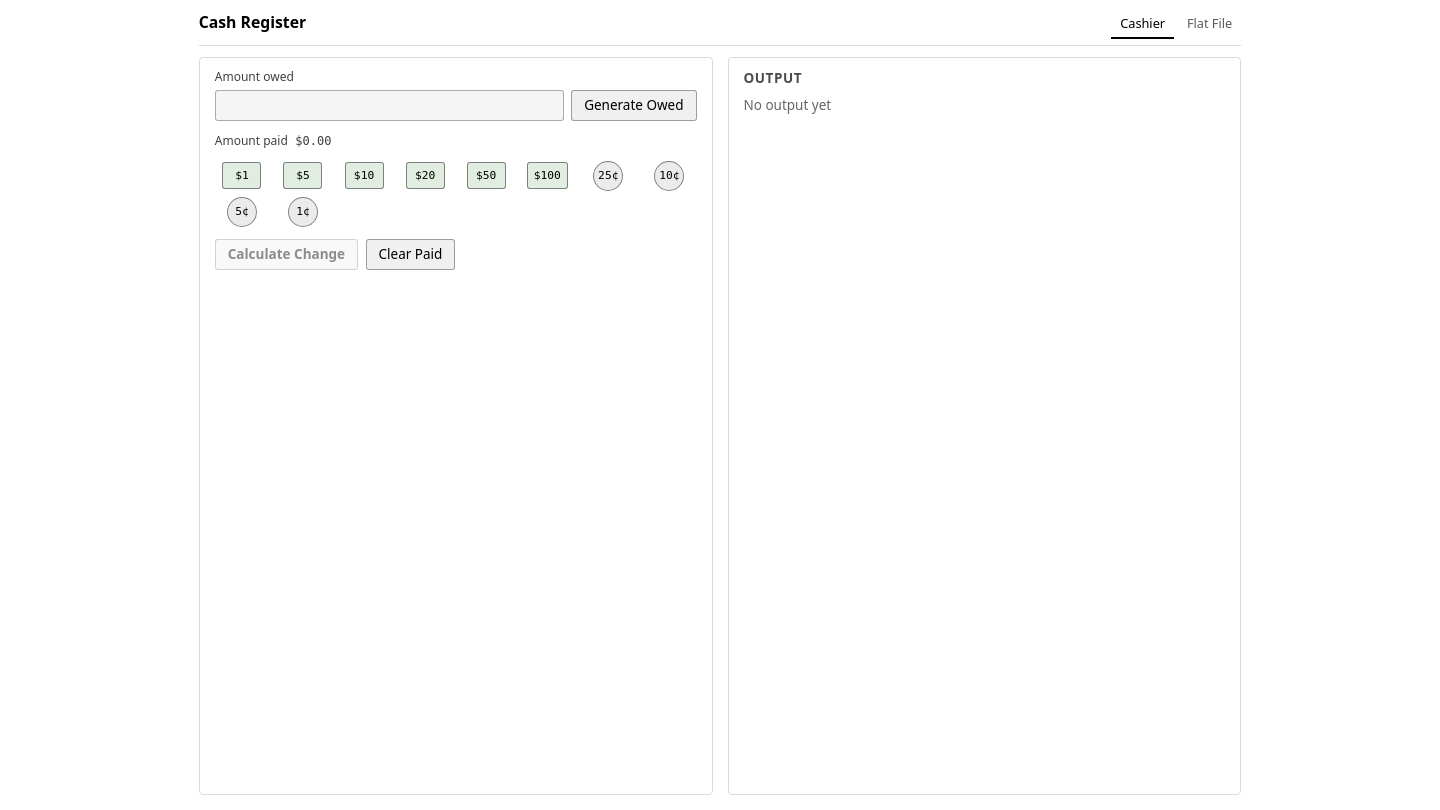
Test: exact coverage notices plainly and locks the grid
Type "5.00" into the field labelled "Amount owed". click: (389, 106)
box: [215, 90, 564, 121]
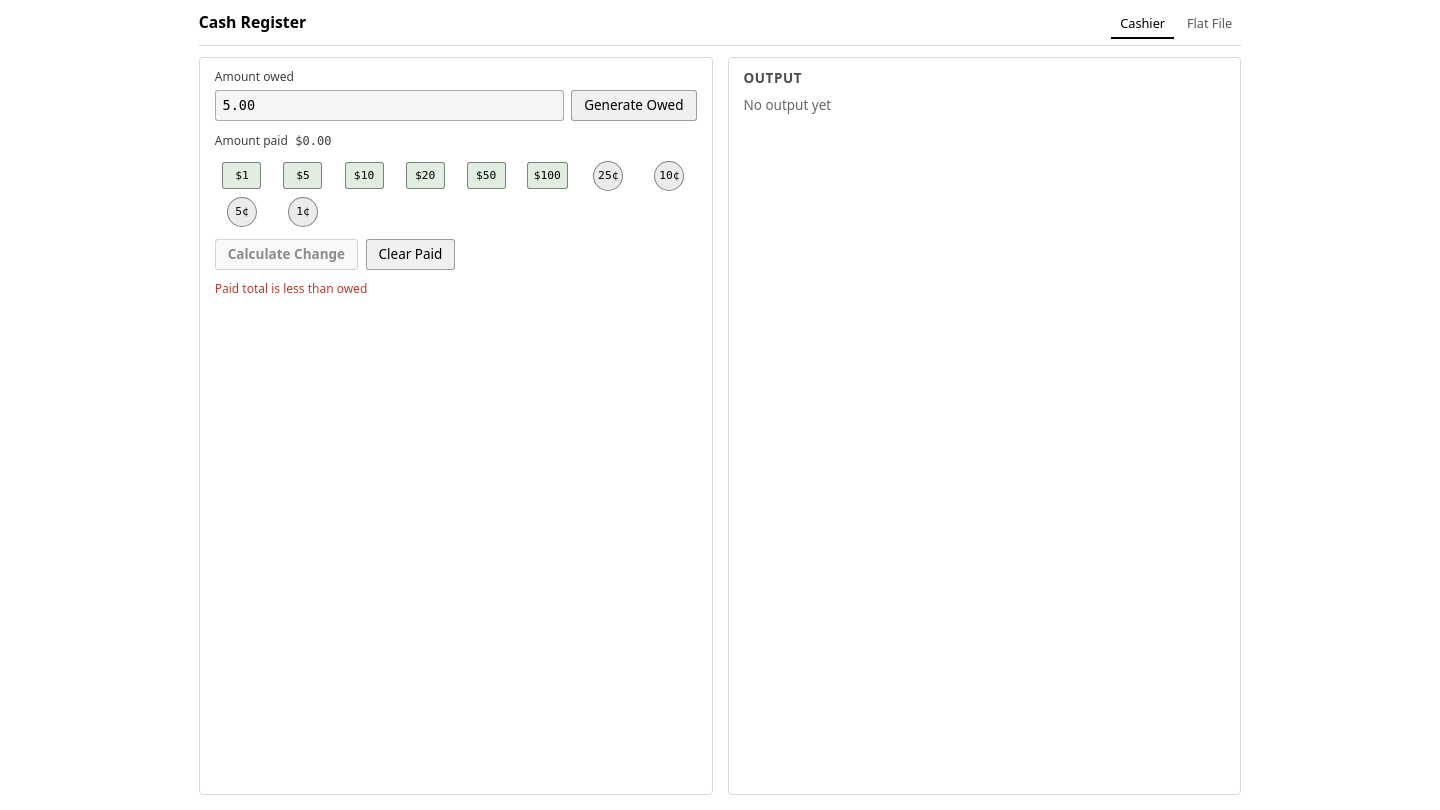
Click the button named "Add $5". click: (303, 176)
box: [276, 161, 330, 191]
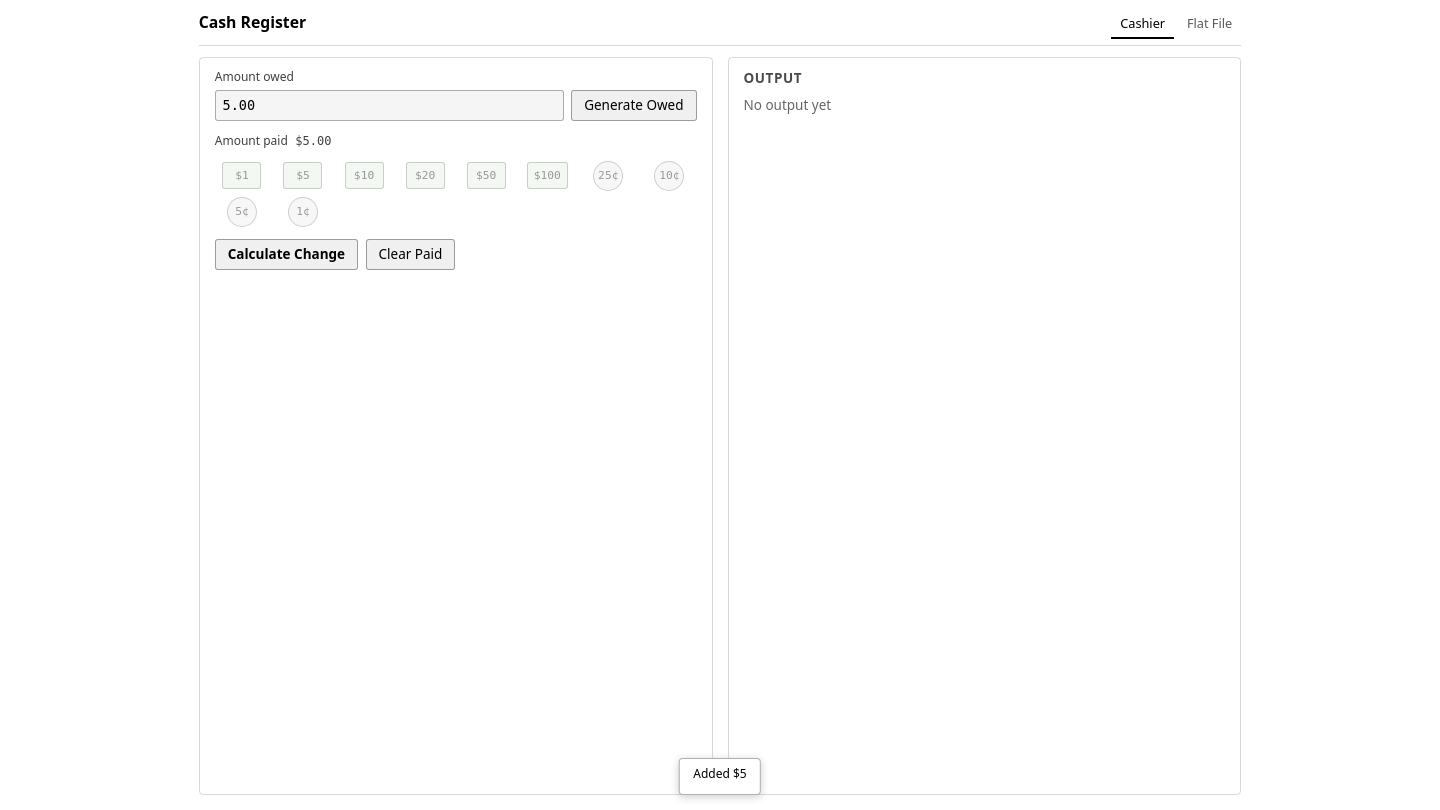
Expected: the message reads "Added $5", [693, 765, 747, 782]
Expected: the button named "Add $1" is disabled, [215, 161, 269, 191]
